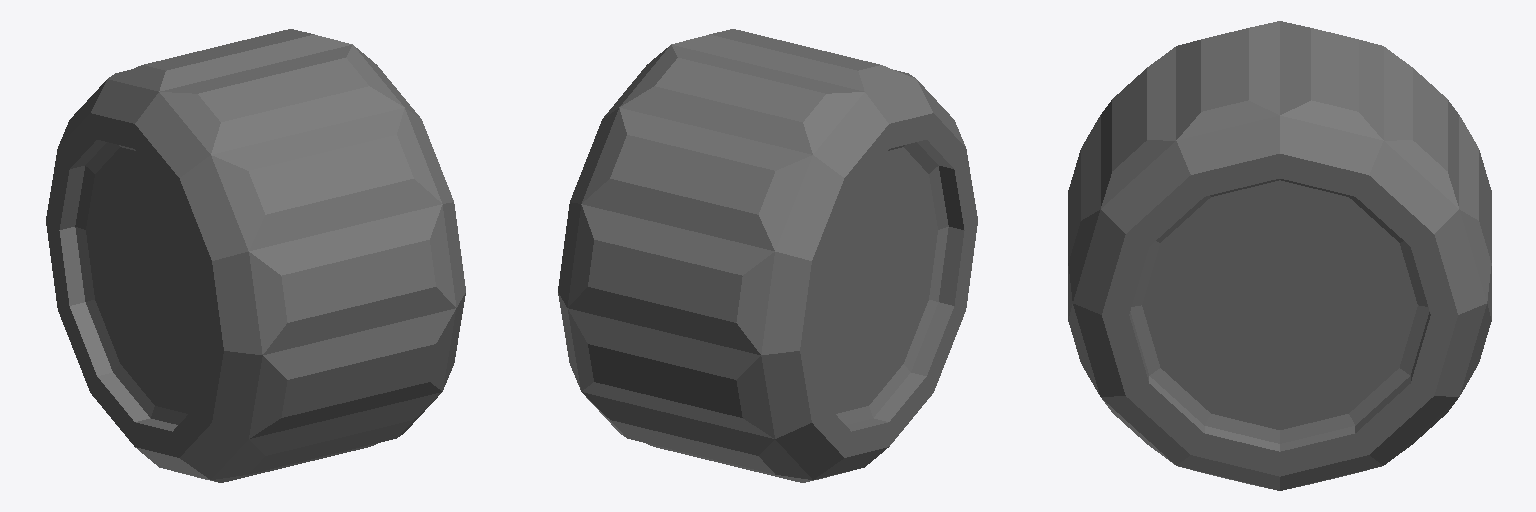
Rendered from cruiserwheel1.obj.
3 views of the same model, side by side, from view 1: azimuth 30°, elevation 25°; view 2: azimuth 150°, elevation 25°; view 3: azimuth 270°, elevation 25° (orthographic).
Visible parts, largest first — view 1: Wheel1; view 2: Wheel1; view 3: Wheel1.
Boxes of the visible parts, x1,y1,x2,y2 form: Wheel1: [46, 29, 465, 482]; Wheel1: [558, 29, 977, 482]; Wheel1: [1068, 21, 1491, 490].
Size of the model in its own units: 1.82 by 2.75 by 2.75.